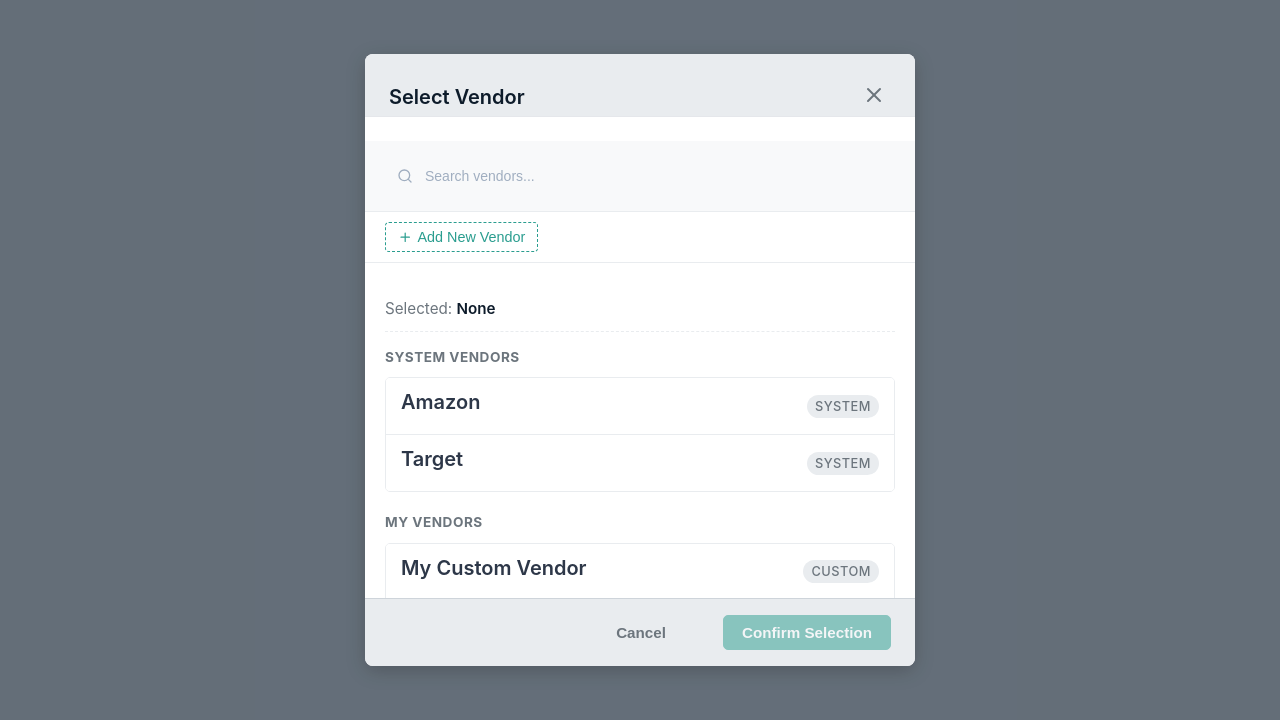
Test case: VendorSelectorModal › Search Functionality › should filter vendors based on search term
This screenshot has width=1280, height=720.
expect the text "Amazon" is shown: met, box [401,390,480,414]
expect the text "Target" is shown: met, box [401,447,463,471]
Type "amazon" into the field with placeholder "Search vendors..." at point(640, 176), box [385,156,895,196]
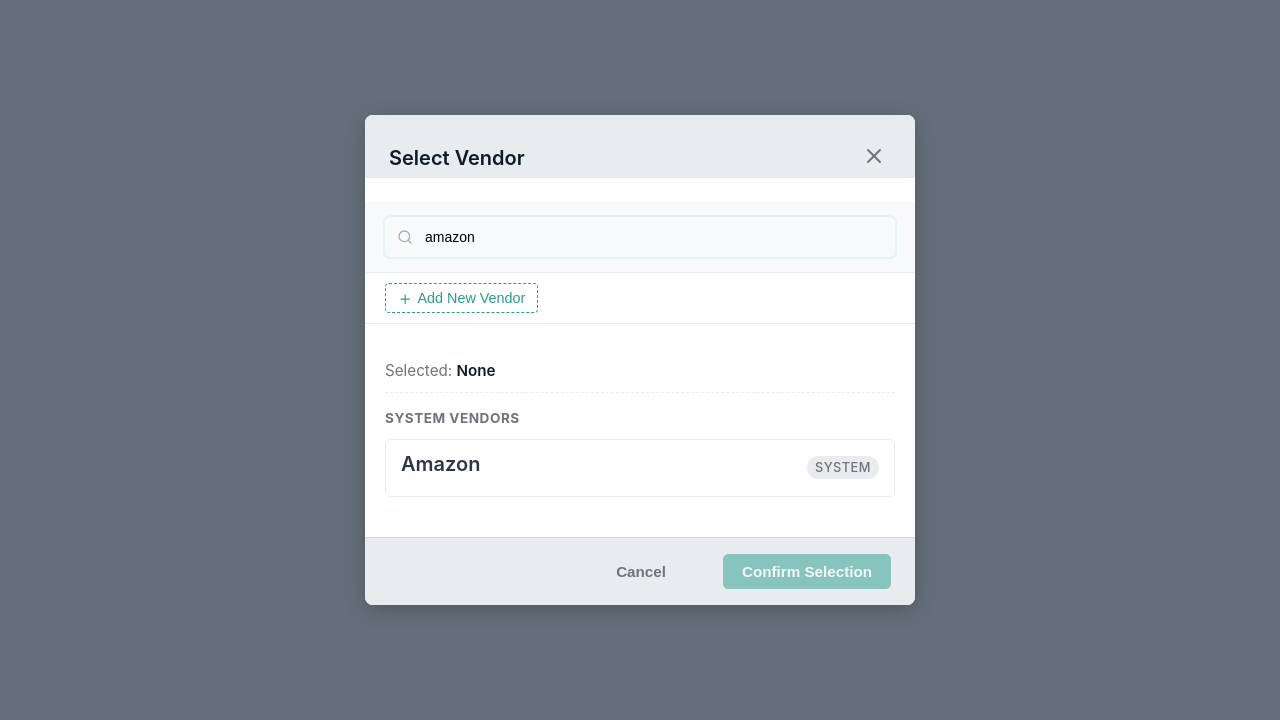
expect the text "Amazon" is shown: met, box [401,452,480,476]
expect the text "Target" is gone: met
